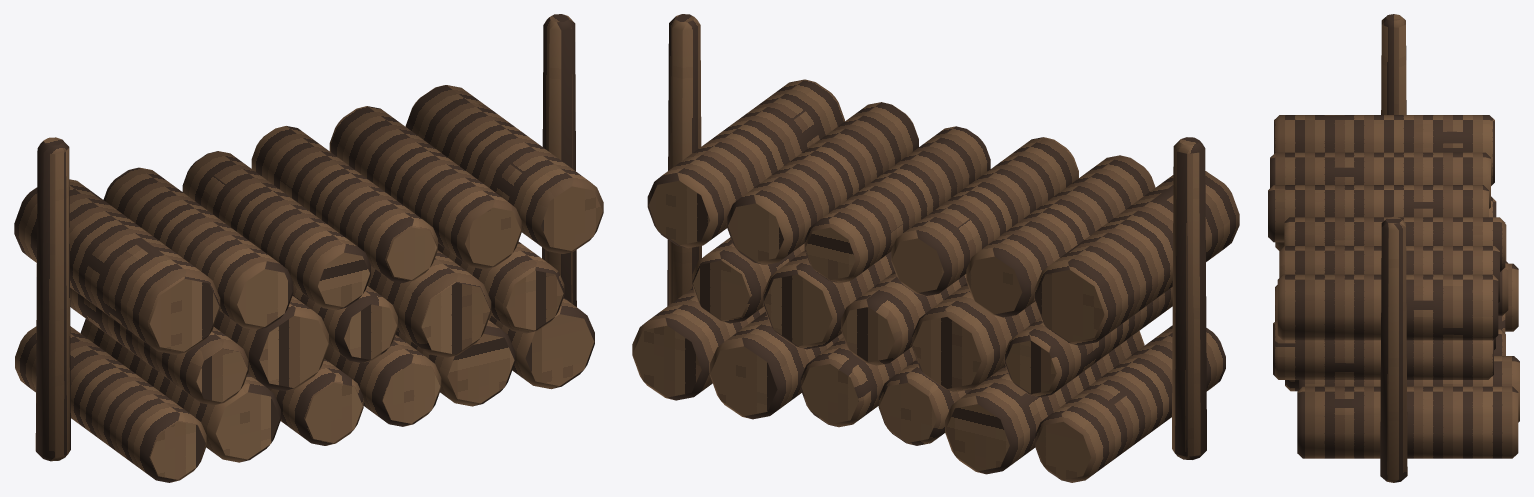
The model's file is cn_firewood_stack_0.glb.
3 renders of one model, left to right at view 1: azimuth 30°, elevation 25°; view 2: azimuth 150°, elevation 25°; view 3: azimuth 270°, elevation 25°, orthographic. The views are drawn at different scales.
Visible parts, largest first — view 1: cn_firewood_stack_1; view 2: cn_firewood_stack_1; view 3: cn_firewood_stack_1.
Part boxes in pixels (<box>): cn_firewood_stack_1: <box>14,14,603,482</box>; cn_firewood_stack_1: <box>632,14,1239,482</box>; cn_firewood_stack_1: <box>1268,14,1519,482</box>.
Bounding box in the file's own units: 1.61 × 0.9042 × 0.7977.
Materials: 2 (2 with a texture image).
